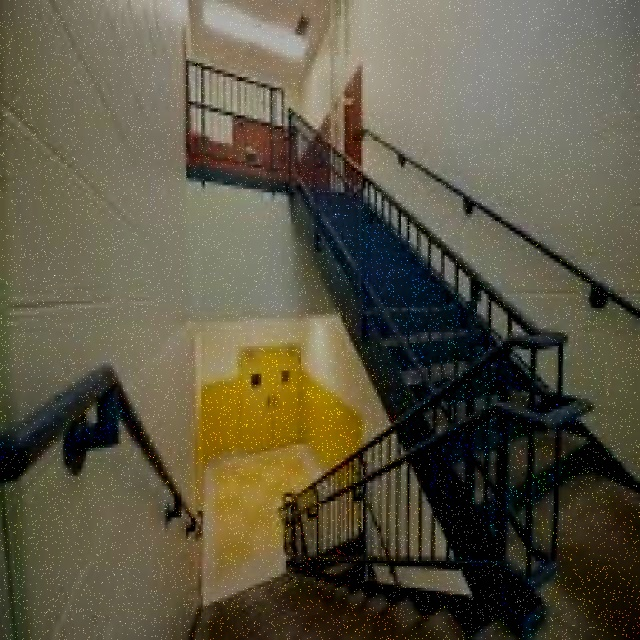stair: (192, 557, 374, 640)
